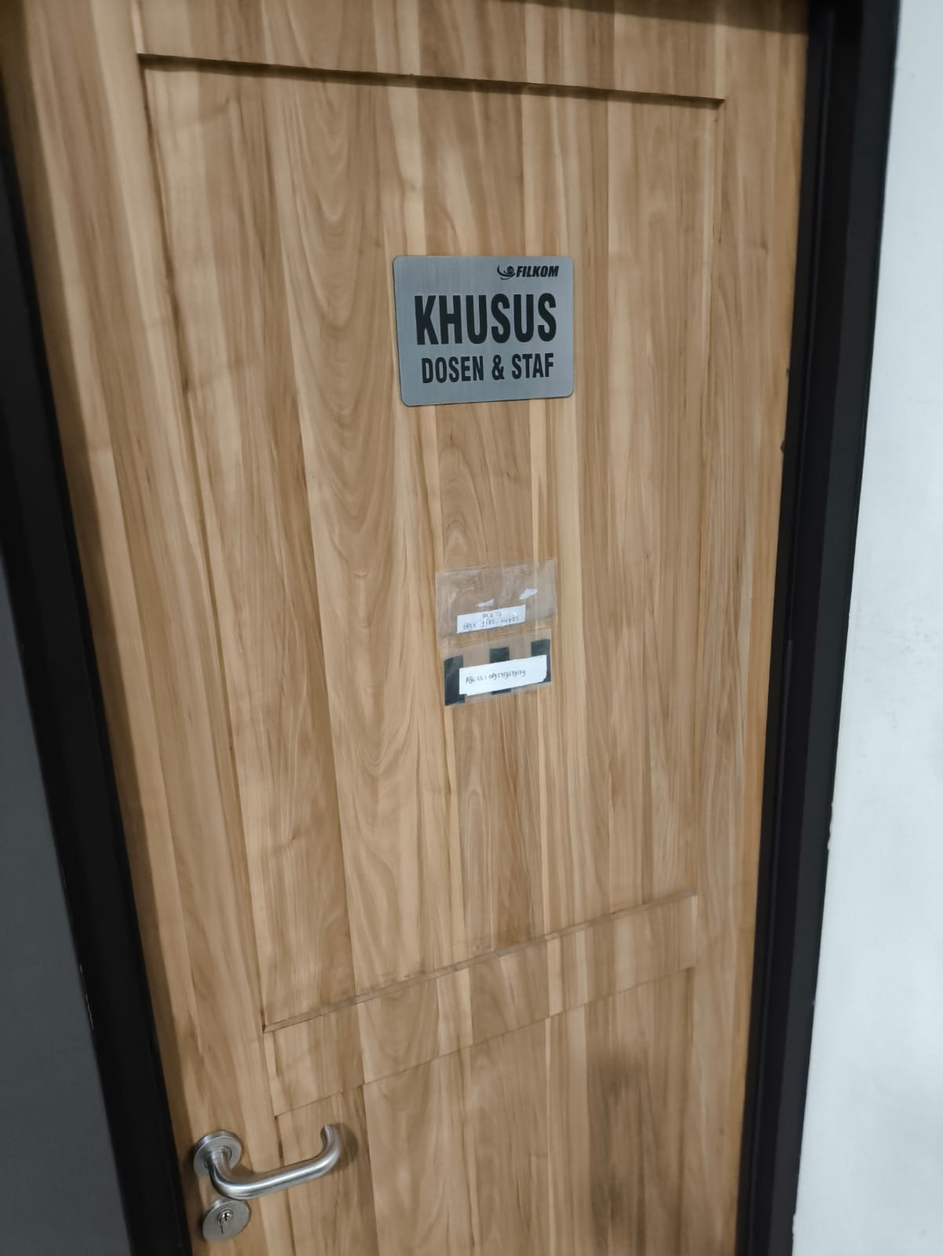ruang khusus dosen dan staff: (380, 242, 583, 414)
